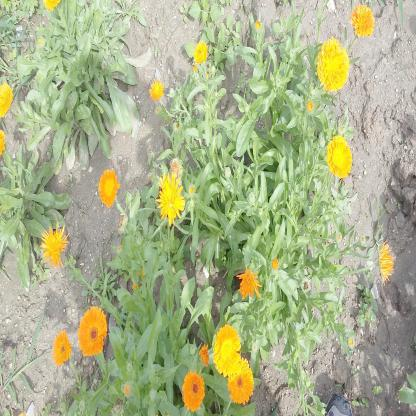marigold: (77, 305, 107, 355), (319, 40, 349, 90), (214, 324, 241, 376), (158, 173, 184, 221), (326, 135, 352, 177), (42, 228, 68, 269), (230, 362, 253, 404), (352, 2, 376, 36), (98, 170, 120, 207), (183, 373, 204, 410), (54, 331, 72, 365), (0, 86, 11, 116), (194, 40, 208, 62), (149, 78, 165, 97)
